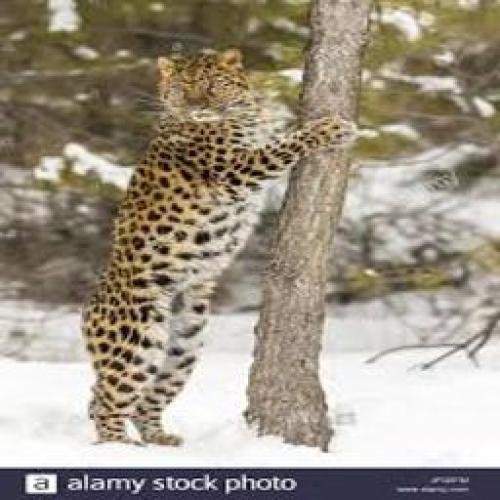amur_leopard-endangered: (80, 48, 360, 445)
